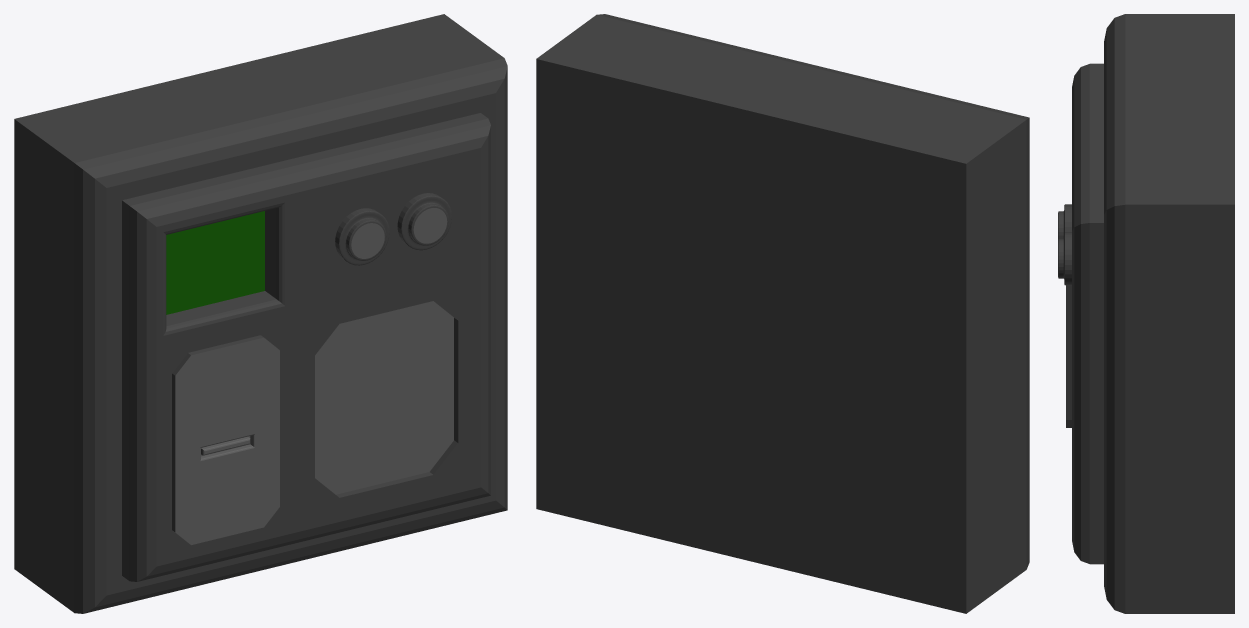
The model's file is dial.fbx.
The picture shows the model from 3 angles, left to right: view 1: azimuth 30°, elevation 25°; view 2: azimuth 150°, elevation 25°; view 3: azimuth 270°, elevation 25°; orthographic projection. The views are drawn at different scales.
Visible parts, largest first — view 1: dials; view 2: dials; view 3: dials.
Part boxes in pixels (x1,y1,x2,y2): dials: (14, 14, 507, 613); dials: (536, 14, 1029, 613); dials: (1058, 14, 1234, 613).
Bounding box in the file's own units: 45.41 × 45.41 × 17.78.
